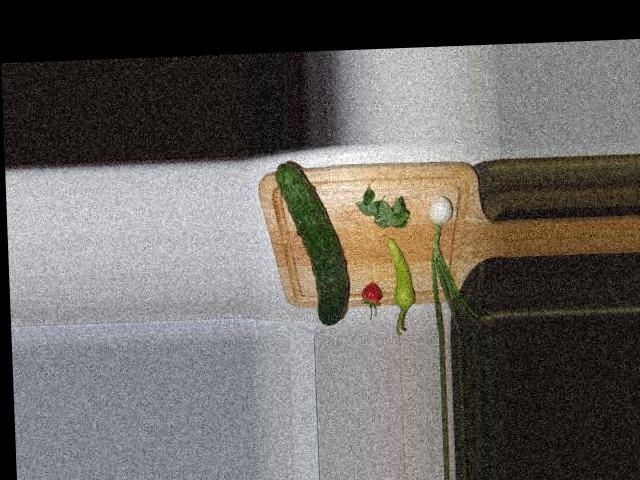cucumber: (274, 160, 349, 326)
